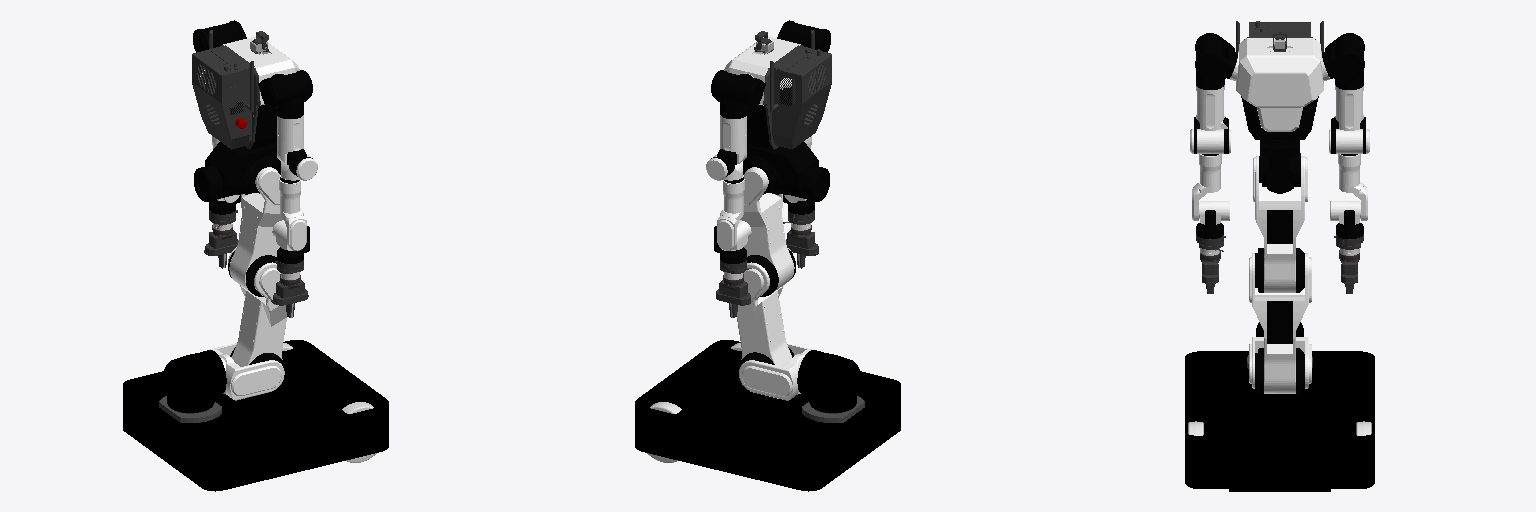
--- What the picture shows (computed from the rendered views, not written in the file) ---
The picture shows the robot from 3 angles, left to right: view 1: azimuth 30°, elevation 25°; view 2: azimuth 150°, elevation 25°; view 3: azimuth 270°, elevation 25°; orthographic projection.
Model RB_Y1M with 36 links and 35 joints (22 revolute, 4 continuous, 4 prismatic, 5 fixed), rooted at base, posed all joints at 0.
Links seen in each view (by area): view 1: base, link_torso_5, link_torso_2, link_torso_1, link_torso_4, link_torso_0, link_right_arm_2, link_right_arm_1, link_right_arm_3, link_right_arm_4, link_right_arm_5, link_right_arm_0 (+3 smaller); view 2: base, link_torso_5, link_torso_2, link_torso_1, link_torso_4, link_torso_0, link_left_arm_2, link_left_arm_1, link_left_arm_3, link_left_arm_4, link_left_arm_5, link_left_arm_0 (+3 smaller); view 3: base, link_torso_5, link_torso_1, link_torso_2, link_torso_4, link_right_arm_2, link_left_arm_2, link_right_arm_3, link_left_arm_3, link_right_arm_0, link_left_arm_0, link_right_arm_5 (+4 smaller).
Boxes of the visible links, x1,y1,x2,y2 form: base: (123, 340, 388, 491); link_torso_5: (192, 30, 299, 149); link_torso_2: (228, 167, 283, 296); link_torso_1: (228, 247, 286, 394); link_torso_4: (194, 142, 280, 201); link_torso_0: (210, 343, 284, 400); link_right_arm_2: (275, 115, 317, 180); link_right_arm_1: (271, 72, 307, 118); link_right_arm_3: (278, 155, 309, 211); link_right_arm_4: (280, 208, 306, 250); link_right_arm_5: (272, 220, 309, 263); link_right_arm_0: (258, 70, 312, 111); base: (635, 340, 900, 491); link_torso_5: (724, 30, 831, 149); link_torso_2: (740, 167, 795, 296); link_torso_1: (737, 248, 794, 368); link_torso_4: (743, 142, 829, 201); link_torso_0: (739, 344, 811, 400); link_left_arm_2: (706, 115, 748, 180); link_left_arm_1: (716, 72, 752, 118); link_left_arm_3: (714, 155, 745, 211); link_left_arm_4: (717, 208, 743, 250); link_left_arm_5: (714, 220, 751, 263); link_left_arm_0: (711, 70, 765, 111); base: (1185, 322, 1374, 491); link_torso_5: (1227, 21, 1332, 143); link_torso_1: (1249, 253, 1311, 393); link_torso_2: (1253, 156, 1307, 292); link_torso_4: (1260, 140, 1299, 193); link_right_arm_2: (1190, 85, 1230, 153); link_left_arm_2: (1329, 85, 1369, 153); link_right_arm_3: (1197, 129, 1227, 185); link_left_arm_3: (1332, 129, 1362, 185); link_right_arm_0: (1195, 33, 1234, 86); link_left_arm_0: (1325, 33, 1364, 86); link_right_arm_5: (1196, 201, 1229, 238).
Size in the robot's own frame: 0.695 by 0.6 by 1.47 metres.
Meshes: 29 distinct files referenced, 35 mesh visuals loaded (28 Collada DAE); not drawn: 1 (reference not matched to a file when rendering).

robot.urdf — RB_Y1M:
<?xml version="1.0"?>
<!-- 예시입니다. -->
<robot name="RB_Y1M">
    <mobile type="mecanum" xyz="0 0 0" rpy="0 0 0" joints="wheel_fr wheel_fl wheel_rr wheel_rl"
            params="1.0 1.0 0.1"/> <!-- wheel_base, wheel_radius -->

    <link name="base">
        <inertial>
            <mass value="60.08042639"/> <!-- TODO 수정 필요 -->
            <origin rpy="0 0 0" xyz="-0.06157942 -0.00142271 0.13513861"/>
            <inertia ixx="1.37742174" ixy="0.02521789" ixz="0.18565467" iyy="2.99386515" iyz="-0.00641869"
                     izz="3.76085052"/> <!-- TODO 수정 필요 -->
        </inertial>

        <visual>
            <geometry>
                <mesh filename="./meshes/base.dae"/>
            </geometry>
        </visual>
    </link>

    <!-- Mobile Base Wheels -->
    <!-- TODO 수정 필요 -->
    <link name="wheel_fr_link">
        <inertial>
            <mass value="1.37783736"/>
            <origin rpy="0 0 0" xyz="0.0 -0.00073938 0.0"/>
            <inertia ixx="0.00426657" ixy="0.0" ixz="0.0" iyy="0.00811815" iyz="0.0" izz="0.00426657"/>
        </inertial>

        <visual>
            <geometry>
                <mesh filename="./meshes/WHEEL.dae"/>
            </geometry>
        </visual>
    </link>

    <link name="wheel_fl_link">
        <inertial>
            <mass value="1.37783736"/>
            <origin rpy="0 0 0" xyz="0.0 0.00073938 0.0"/>
            <inertia ixx="0.00426657" ixy="0.0" ixz="0.0" iyy="0.00811815" iyz="0.0" izz="0.00426657"/>
        </inertial>

        <visual>
            <geometry>
                <mesh filename="./meshes/WHEEL.dae"/>
            </geometry>
        </visual>
    </link>

    <link name="wheel_rr_link">
        <inertial>
            <mass value="1.37783736"/>
            <origin rpy="0 0 0" xyz="0.0 0.00073938 0.0"/>
            <inertia ixx="0.00426657" ixy="0.0" ixz="0.0" iyy="0.00811815" iyz="0.0" izz="0.00426657"/>
        </inertial>

        <visual>
            <geometry>
                <mesh filename="./meshes/WHEEL.dae"/>
            </geometry>
        </visual>
    </link>

    <link name="wheel_rl_link">
        <inertial>
            <mass value="1.37783736"/>
            <origin rpy="0 0 0" xyz="0.0 0.00073938 0.0"/>
            <inertia ixx="0.00426657" ixy="0.0" ixz="0.0" iyy="0.00811815" iyz="0.0" izz="0.00426657"/>
        </inertial>

        <visual>
            <geometry>
                <mesh filename="./meshes/WHEEL.dae"/>
            </geometry>
        </visual>
    </link>
    <!-- -->

    <link name="link_torso_0">
        <inertial>
            <mass value="2.24282123"/>
            <origin rpy="0 0 0" xyz="-0.08848415 0.00021367 0.00000046"/>
            <inertia ixx="0.01413496" ixy="0.00092982" ixz="-0.00000010" iyy="0.01005357"
                     iyz="-0.00000008" izz="0.01892525"/>
        </inertial>

        <visual>
            <geometry>
                <mesh filename="./meshes/LINK_1.dae"/>
            </geometry>
        </visual>

        <collision>
            <origin xyz="-0.115 0 0" rpy="0 1.5708 0"/>
            <geometry>
                <capsule radius="0.105" length="0.230" coltype="1"/>
                <!-- <capsule sp="0.0 0.0 0.0" ep="-0.230 0.0 0.0" radius="0.105" length="1"/> -->
            </geometry>
        </collision>
    </link>

    <link name="link_torso_1">
        <inertial>
            <mass value="9.72162676"/>
            <origin rpy="0 0 0" xyz="0.00728955 -0.01728522 0.06911380"/>
            <inertia ixx="0.14862640" ixy="-0.00142621" ixz="-0.00951385" iyy="0.13854733"
                     iyz="-0.00975351" izz="0.02912982"/>
        </inertial>

        <visual>
            <geometry>
                <mesh filename="./meshes/LINK_2.dae"/>
            </geometry>
        </visual>

        <collision>
            <origin xyz="0.0100 0 0.2400" rpy="0 0 0"/>
            <geometry>
                <capsule radius="0.115" length="0.220" coltype="2"/>
                <!-- <capsule sp="0.01 0.0 0.130" ep="0.01 0.0 0.350" radius="0.115"/> -->
            </geometry>
        </collision>
    </link>

    <link name="link_torso_2">
        <inertial>
            <mass value="9.21691850"/>
            <origin rpy="0 0 0" xyz="0.00653835 -0.01769536 0.05636582"/>
            <inertia ixx="0.12162270" ixy="-0.00127910" ixz="-0.00831678" iyy="0.11589190"
                     iyz="-0.00873271" izz="0.03094484"/>
        </inertial>

        <visual>
            <geometry>
                <mesh filename="./meshes/LINK_3.dae"/>
            </geometry>
        </visual>

        <collision>
            <origin xyz="0.0250 0 0.2300" rpy="0 0 0"/>
            <geometry>
                <capsule radius="0.095" length="0.1600" coltype="4"/>
                <!-- <capsule sp="0.025 0.0 0.15" ep="0.025 0.0 0.310" radius="0.095"/> -->
            </geometry>
        </collision>
    </link>

    <link name="link_torso_3">
        <inertial>
            <mass value="4.18679196"/>
            <origin rpy="0 0 0" xyz="-0.00574156 -0.01725975 0.00005610"/>
            <inertia ixx="0.00849870" ixy="0.00040861" ixz="-0.00000263" iyy="0.00929513"
                     iyz="-0.00001243" izz="0.00955442"/>
        </inertial>

        <visual>
            <geometry>
                <mesh filename="./meshes/LINK_4.dae"/>
            </geometry>
        </visual>
    </link>

    <link name="link_torso_4">
        <inertial>
            <mass value="4.45566276"/>
            <origin rpy="0 0 0" xyz="-0.09097095 0.00005085 0.02601950"/>
            <inertia ixx="0.01545991" ixy="0.00001883" ixz="-0.00780349" iyy="0.02550888" iyz="0.00000715"
                     izz="0.01952563"/>
        </inertial>

        <visual>
            <geometry>
                <mesh filename="./meshes/LINK_5.dae"/>
            </geometry>
        </visual>


        <collision>
            <origin xyz="-0.070000 0 0.038500" rpy="0 1.5708 0"/>
            <geometry>
                <capsule radius="0.105" length="0.2" coltype="8"/>
                <!-- <capsule sp="0.03 0.0 0.0385" ep="-0.170 0.0 0.0385" radius="0.105"/> -->
            </geometry>
        </collision>
    </link>

    <link name="link_torso_5">
        <inertial>
            <mass value="12.59012341"/>
            <origin rpy="0 0 0" xyz="-0.01338376 0.00025621 -0.03272487"/>
            <inertia ixx="0.21375525" ixy="0.00051520" ixz="0.00880124" iyy="0.16562090" iyz="-0.00023995"
                     izz="0.13308879"/>
        </inertial>

        <visual>
            <geometry>
                <mesh filename="./meshes/LINK_6.dae"/>
            </geometry>
        </visual>

        <collision>
            <origin xyz="0 0 0.0075" rpy="0 0 0"/>
            <geometry>
                <capsule radius="0.155" length="0.1350" coltype="16"/>
                <!-- <capsule sp="0.0 0.0 -0.06" ep="0.0 0.0 0.075" radius="0.155"/> -->
            </geometry>
        </collision>
    </link>

    <link name="link_right_arm_0">
        <inertial>
            <mass value="1.26164242"/>
            <origin rpy="0 0 0" xyz="-0.00316662 0.03437181 -0.00000030"/>
            <inertia ixx="0.00230621" ixy="0.00039024" ixz="-0.00000256" iyy="0.00426418" iyz="0.00000118"
                     izz="0.00432156"/>
        </inertial>

        <visual>
            <geometry>
                <mesh filename="./meshes/LINK_7.dae"/>
            </geometry>
        </visual>

        <collision>
            <origin xyz="-0.015 0.018 -0.008" rpy="0 1.5708 0"/>
            <geometry>
                <capsule radius="0.075" length="0.0700"/>
            </geometry>
        </collision>
    </link>

    <link name="link_right_arm_1">
        <inertial>
            <mass value="2.27287031"/>
            <origin rpy="0 0 0" xyz="-0.00307855 -0.00124741 -0.01294324"/>
            <inertia ixx="0.00388490" ixy="-0.00001477" ixz="0.00011465" iyy="0.00447034"
                     iyz="-0.00010023" izz="0.00288341"/>
        </inertial>

        <visual>
            <geometry>
                <mesh filename="./meshes/LINK_8.dae"/>
            </geometry>
        </visual>

        <collision>
            <origin xyz="0 0 -0.1000" rpy="0 0 0"/>
            <geometry>
                <capsule radius="0.05" length="0.2" coltype="32"/>
                <!-- <capsule sp="0.0 0.0 0.0" ep="0.0 0.0 -0.200" radius="0.050"/> -->
            </geometry>
        </collision>
    </link>

    <link name="link_right_arm_2">
        <inertial>
            <mass value="2.46909439"/>
            <origin rpy="0 0 0" xyz="0.00115434 -0.00196635 -0.16192524"/>
            <inertia ixx="0.00980269" ixy="0.00005871" ixz="0.00051888" iyy="0.00924560" iyz="-0.00045932"
                     izz="0.00329867"/>
        </inertial>

        <visual>
            <geometry>
                <mesh filename="./meshes/LINK_9.dae"/>
            </geometry>
        </visual>

        <collision>
            <origin xyz="0.0260 0 -0.2760" rpy="1.5708 0 0"/>
            <geometry>
                <capsule radius="0.05" length="0.080000" coltype="64"/>
                <!-- <capsule sp="0.026 -0.040 -0.276" ep="0.026 0.040 -0.276" radius="0.05"/> -->
            </geometry>
        </collision>
    </link>

    <link name="link_right_arm_3">
        <inertial>
            <mass value="2.26099493"/>
            <origin rpy="0 0 0" xyz="-0.01603135 -0.00692891 -0.04549811"/>
            <inertia ixx="0.00822606" ixy="0.00027620" ixz="-0.00156570" iyy="0.00844870" iyz="0.00076157"
                     izz="0.00236614"/>
        </inertial>

        <visual>
            <geometry>
                <mesh filename="./meshes/LINK_10.dae"/>
            </geometry>
        </visual>

        <collision>
            <origin xyz="-0.0310 0 -0.1075" rpy="0 0 0"/>
            <geometry>
                <capsule radius="0.04" length="0.1150" coltype="128" colaffinity="30"/>
                <!-- <capsule sp="-0.031 0.0 -0.05" ep="-0.031 0.0 -0.165" radius="0.04"/> -->
            </geometry>
        </collision>
    </link>

    <link name="link_right_arm_4">
        <inertial>
            <mass value="0.42508710"/>
            <origin rpy="0 0 0" xyz="-0.00000011 -0.02696036 0.06182110"/>
            <inertia ixx="0.00082466" ixy="0.0" ixz="0.0" iyy="0.00075398" iyz="-0.00025338"
                     izz="0.00039794"/>
        </inertial>

        <visual>
            <geometry>
                <mesh filename="./meshes/LINK_11.dae"/>
            </geometry>
        </visual>

        <collision>
            <origin xyz="0 -0.038 0.0175" rpy="0 0 0"/>
            <geometry>
                <capsule radius="0.035" length="0.095" coltype="256" colaffinity="30"/>
            </geometry>
        </collision>
    </link>

    <link name="link_right_arm_5">
        <inertial>
            <mass value="1.59194395"/>
            <origin rpy="0 0 0" xyz="0.00318034 -0.00532264 -0.02809655"/>
            <inertia ixx="0.00256054" ixy="-0.00002344" ixz="-0.00001563" iyy="0.00257233"
                     iyz="0.00021608" izz="0.00156092"/>
        </inertial>

        <visual>
            <geometry>
                <mesh filename="./meshes/LINK_12.dae"/>
            </geometry>
        </visual>

        <collision>
            <origin xyz="0 0 -0.1" rpy="0 0 0"/>
            <geometry>
                <capsule radius="0.075" length="0.25" coltype="512" colaffinity="31"/>
                <!-- <capsule sp="0.0 0.0 0.002" ep="0.0 0.0 -0.050" radius="0.075"/> -->
            </geometry>
        </collision>
    </link>

    <link name="link_right_arm_6">
        <inertial>
            <mass value="0.21137279"/>
            <origin rpy="0 0 0" xyz="0.00066810 -0.00031708 -0.09636043"/>
            <inertia ixx="0.00013511" ixy="-0.00000242" ixz="-0.00000102" iyy="0.00014453"
                     iyz="0.00000094" izz="0.00025431"/>
        </inertial>

        <visual>
            <geometry>
                <mesh filename="./meshes/LINK_13.dae"/>
            </geometry>
        </visual>
    </link>

    <link name="link_left_arm_0">
        <inertial>
            <mass value="1.26164242"/>
            <origin rpy="0 0 0" xyz="-0.00316662 -0.03437151 0.00000242"/>
            <inertia ixx="0.00230624" ixy="-0.00039022" ixz="0.00000269" iyy="0.00426418" iyz="0.00000108"
                     izz="0.00432159"/>
        </inertial>

        <visual>
            <geometry>
                <mesh filename="./meshes/LINK_14.dae"/>
            </geometry>
        </visual>

        <collision>
            <origin xyz="-0.015 -0.018 -0.008" rpy="0 1.5708 0"/>
            <geometry>
                <capsule radius="0.075" length="0.0700"/>
            </geometry>
        </collision>
    </link>

    <link name="link_left_arm_1">
        <inertial>
            <mass value="1.88138658"/>
            <origin rpy="0 0 0" xyz="-0.00183470 0.00040596 -0.01008733"/>
            <inertia ixx="0.00295838" ixy="-0.00001176" ixz="0.00006949" iyy="0.00355208" iyz="0.00004467"
                     izz="0.00230558"/>
        </inertial>

        <visual>
            <geometry>
                <mesh filename="./meshes/LINK_15.dae"/>
            </geometry>
        </visual>

        <collision>
            <origin xyz="0 0 -0.1000" rpy="0 0 0"/>
            <geometry>
                <capsule radius="0.050" length="0.2000" colaffinity="768"/>
            </geometry>
        </collision>
    </link>

    <link name="link_left_arm_2">
        <inertial>
            <mass value="2.35634437"/>
            <origin rpy="0 0 0" xyz="0.00066086 -0.00038583 -0.15742972"/>
            <inertia ixx="0.00842712" ixy="0.00000247" ixz="0.00036948" iyy="0.00802311" iyz="-0.00006550"
                     izz="0.00295678"/>
        </inertial>

        <visual>
            <geometry>
                <mesh filename="./meshes/LINK_16.dae"/>
            </geometry>
        </visual>

        <collision>
            <origin xyz="0.0260 0 -0.2760" rpy="1.5708 0 0"/>
            <geometry>
                <capsule radius="0.05" length="0.080000" colaffinity="768"/>
            </geometry>
        </collision>
    </link>

    <link name="link_left_arm_3">
        <inertial>
            <mass value="2.00905891"/>
            <origin rpy="0 0 0" xyz="-0.01565298 0.00793126 -0.04997943"/>
            <inertia ixx="0.00756474" ixy="-0.00026771" ixz="-0.00155419" iyy="0.00772758"
                     iyz="-0.00084364" izz="0.00199754"/>
        </inertial>

        <visual>
            <geometry>
                <mesh filename="./meshes/LINK_17.dae"/>
            </geometry>
        </visual>

        <collision>
            <origin xyz="-0.0310 0 -0.1075" rpy="0 0 0"/>
            <geometry>
                <capsule radius="0.04" length="0.1150" colaffinity="926"/>
            </geometry>
        </collision>
    </link>

    <link name="link_left_arm_4">
        <inertial>
            <mass value="0.42508710"/>
            <origin rpy="0 0 0" xyz="0.00000011 0.02696036 0.06182110"/>
            <inertia ixx="0.00082466" ixy="0.0" ixz="0.0" iyy="0.00075398" iyz="0.00025338"
                     izz="0.00039794"/>
        </inertial>

        <visual>
            <geometry>
                <mesh filename="./meshes/LINK_18.dae"/>
            </geometry>
        </visual>

        <collision>
            <origin xyz="0 0.038000 0.017500" rpy="0 0 0"/>
            <geometry>
                <capsule radius="0.035" length="0.095000" colaffinity="1022"/>
            </geometry>
        </collision>
    </link>

    <link name="link_left_arm_5">
        <inertial>
            <mass value="1.44264795"/>
            <origin rpy="0 0 0" xyz="0.00340082 0.00576824 -0.02507309"/>
            <inertia ixx="0.00233577" ixy="0.00003048" ixz="-0.00001191" iyy="0.00232580"
                     iyz="-0.00019491" izz="0.00138375"/>
        </inertial>

        <visual>
            <geometry>
                <mesh filename="./meshes/LINK_19.dae"/>
            </geometry>
        </visual>

        <collision>
            <origin xyz="0 0 -0.1" rpy="0 0 0"/>
            <geometry>
                <capsule radius="0.075" length="0.25" colaffinity="1023"/>
            </geometry>
        </collision>
    </link>

    <link name="link_left_arm_6">
        <inertial>
            <mass value="0.21137279"/>
            <origin rpy="0 0 0" xyz="-0.00066810 0.00031708 -0.09636043"/>
            <inertia ixx="0.00013511" ixy="-0.00000242" ixz="0.00000102" iyy="0.00014453"
                     iyz="-0.00000094" izz="0.00025431"/>
        </inertial>

        <visual>
            <geometry>
                <mesh filename="./meshes/LINK_20.dae"/>
            </geometry>
        </visual>
    </link>

    <link name="FT_sensor_R">
        <inertial>
            <mass value="0.49078507"/>
            <origin rpy="0 0 0" xyz="0.00010423 0.00108019 -0.01880676"/>
            <inertia ixx="0.00028587" ixy="-0.00000146" ixz="-0.00000026" iyy="0.00030459"
                     iyz="-0.00000772" izz="0.00036377"/>
        </inertial>

        <visual>
            <geometry>
                <mesh filename="./meshes/FT_SENSOR_R.dae"/>
            </geometry>
        </visual>
    </link>

    <link name="FT_sensor_L">
        <inertial>
            <mass value="0.49078507"/>
            <origin rpy="0 0 0" xyz="-0.00010423 -0.00108019 -0.01880676"/>
            <inertia ixx="0.00028587" ixy="-0.00000146" ixz="0.00000026" iyy="0.00030459" iyz="0.00000772"
                     izz="0.00036377"/>
        </inertial>

        <visual>
            <geometry>
                <mesh filename="./meshes/FT_SENSOR_L.dae"/>
            </geometry>
        </visual>
    </link>

    <link name="ee_right">
        <inertial>
            <mass value="0.46704998"/>
            <origin rpy="0 0 0" xyz="0.00212703 0.00000615 -0.04287176"/>
            <inertia ixx="0.00032067" ixy="0.00002383" ixz="-0.00000785" iyy="0.00059559"
                     iyz="-0.00000007" izz="0.00052732"/>
        </inertial>

        <visual>
            <geometry>
                <mesh filename="./meshes/EE_BODY.dae"/>
            </geometry>
        </visual>
    </link>

    <link name="ee_finger_r1">
        <inertial>
            <mass value="0.03326999"/>
            <origin rpy="0 0 0" xyz="0.00278346 -0.00000329 -0.02570112"/>
            <inertia ixx="0.00001231" ixy="0.0" ixz="-0.00000042" iyy="0.00001066" iyz="0.0"
                     izz="0.00000224"/>
        </inertial>

        <visual>
            <geometry>
                <mesh filename="./meshes/EE_FINGER.dae"/>
            </geometry>
        </visual>
    </link>

    <link name="ee_finger_r2">
        <inertial>
            <mass value="0.03326999"/>
            <origin rpy="0 0 0" xyz="0.00278346 -0.00000329 -0.02570112"/>
            <inertia ixx="0.00001231" ixy="0.0" ixz="-0.00000042" iyy="0.00001066" iyz="0.0"
                     izz="0.00000224"/>
        </inertial>

        <visual>
            <geometry>
                <mesh filename="./meshes/EE_FINGER.dae"/>
            </geometry>
        </visual>
    </link>

    <link name="ee_left">
        <inertial>
            <mass value="0.46704998"/>
            <origin rpy="0 0 0" xyz="0.00212703 0.00000615 -0.04287176"/>
            <inertia ixx="0.00032067" ixy="0.00002383" ixz="-0.00000785" iyy="0.00059559"
                     iyz="-0.00000007" izz="0.00052732"/>
        </inertial>

        <visual>
            <geometry>
                <mesh filename="./meshes/EE_BODY.dae"/>
            </geometry>
        </visual>
    </link>

    <link name="ee_finger_l1">
        <inertial>
            <mass value="0.03326999"/>
            <origin rpy="0 0 0" xyz="0.00278346 -0.00000329 -0.02570112"/>
            <inertia ixx="0.00001231" ixy="0.0" ixz="-0.00000042" iyy="0.00001066" iyz="0.0"
                     izz="0.00000224"/>
        </inertial>

        <visual>
            <geometry>
                <mesh filename="./meshes/EE_FINGER.dae"/>
            </geometry>
        </visual>
    </link>

    <link name="ee_finger_l2">
        <inertial>
            <mass value="0.03326999"/>
            <origin rpy="0 0 0" xyz="0.00278346 -0.00000329 -0.02570112"/>
            <inertia ixx="0.00001231" ixy="0.0" ixz="-0.00000042" iyy="0.00001066" iyz="0.0"
                     izz="0.00000224"/>
        </inertial>

        <visual>
            <geometry>
                <mesh filename="./meshes/EE_FINGER.dae"/>
            </geometry>
        </visual>
    </link>

    <link name="link_head_0">
        <inertial>
            <mass value="0.07582110"/>
            <origin rpy="0 0 0" xyz="-0.00800549 0.0 -0.01100308"/>
            <inertia ixx="0.00003307" ixy="0.0" ixz="-0.00000290" iyy="0.00002209" iyz="0.0"
                     izz="0.00003796"/>
        </inertial>

        <visual>
            <geometry>
                <mesh filename="./meshes/PAN_TILT_1.dae"/>
            </geometry>
        </visual>
    </link>

    <link name="link_head_1">
        <inertial>
            <mass value="0.07450580"/>
            <origin rpy="0 0 0" xyz="-0.01150679 -0.00114270 -0.00031579"/>
            <inertia ixx="0.00001850" ixy="-0.00000035" ixz="0.00000203" iyy="0.00002451"
                     iyz="-0.00000010" izz="0.00002062"/>
        </inertial>

        <visual>
            <geometry>
                <mesh filename="./meshes/PAN_TILT_2.dae"/>
            </geometry>
        </visual>
    </link>

    <link name="link_head_2">
        <inertial>
            <mass value="0.03585374"/>
            <origin rpy="0 0 0" xyz="-0.00081966 0.00099024 0.02283704"/>
            <inertia ixx="0.00002046" ixy="0.00000001" ixz="-0.00000027" iyy="0.00001044" iyz="0.00000076"
                     izz="0.00001291"/>
        </inertial>

        <visual>
            <geometry>
                <mesh filename="./meshes/PAN_TILT_3.dae"/>
            </geometry>
        </visual>
    </link>


    <!-- Joints -->
    <joint name="wheel_fr" type="continuous">
        <parent link="base"/>
        <child link="wheel_fr_link"/>
        <origin rpy="0.0 0.0 0.0" xyz="0.228 -0.265 0.1"/> <!-- TODO 수정 필요 -->
        <axis xyz="0 -1 0"/>
        <limit velocity="15.707963268" acceleration="3.141592"/>
    </joint>

    <joint name="wheel_fl" type="continuous">
        <parent link="base"/>
        <child link="wheel_fl_link"/>
        <origin rpy="0.0 0.0 0.0" xyz="0.228 0.265 0.1"/> <!-- TODO 수정 필요 -->
        <axis xyz="0 -1 0"/>
        <limit velocity="15.707963268" acceleration="3.141592"/>
    </joint>
    <joint name="wheel_rr" type="continuous">
        <parent link="base"/>
        <child link="wheel_rr_link"/>
        <origin rpy="0.0 0.0 0.0" xyz="0.228 -0.265 0.1"/> <!-- TODO 수정 필요 -->
        <axis xyz="0 -1 0"/>
        <limit velocity="15.707963268" acceleration="3.141592"/>
    </joint>

    <joint name="wheel_rl" type="continuous">
        <parent link="base"/>
        <child link="wheel_rl_link"/>
        <origin rpy="0.0 0.0 0.0" xyz="0.228 0.265 0.1"/> <!-- TODO 수정 필요 -->
        <axis xyz="0 -1 0"/>
        <limit velocity="15.707963268" acceleration="3.141592"/>
    </joint>

    <joint name="torso_0" type="revolute">
        <parent link="base"/>
        <child link="link_torso_0"/>
        <origin rpy="0.0 0.0 0.0" xyz="0.0 0.0 0.2805"/>
        <axis xyz="1 0 0"/>
        <!-- Nm, rad/s^2, rad/s, (min) rad, (max) rad -->
        <!-- 270Nm, 5rad/s^2, 120deg/s, -15deg, 15deg -->
        <limit effort="270.0"
               acceleration="5.0"
               velocity="2.09439510"
               lower="-0.261799388"
               upper="0.261799388"
        />
    </joint>

    <joint name="torso_1" type="revolute">
        <parent link="link_torso_0"/>
        <child link="link_torso_1"/>
        <origin rpy="0.0 0.0 0.0" xyz="0.0 0.0 0.0"/>
        <axis xyz="0 1 0"/>
        <!-- Nm, rad/s^2, rad/s, (min) rad, (max) rad -->
        <!-- 270Nm, 5rad/s^2, 120deg/s, -30deg, 90deg -->
        <limit effort="270.0"
               acceleration="5.0"
               velocity="2.09439510"
               lower="-0.523598776"
               upper="1.570796327"
        />
    </joint>

    <joint name="torso_2" type="revolute">
        <parent link="link_torso_1"/>
        <child link="link_torso_2"/>
        <origin rpy="0.0 0.0 0.0" xyz="0.0 0.0 0.350"/>
        <axis xyz="0 1 0"/>
        <!-- Nm, rad/s^2, rad/s, (min) rad, (max) rad -->
        <!-- 270Nm, 5rad/s^2, 120deg/s, -150deg, 90deg -->
        <limit effort="270.0"
               acceleration="5.0"
               velocity="2.09439510"
               lower="-2.617993878"
               upper="1.570796327"
        />
    </joint>

    <joint name="torso_3" type="revolute">
        <parent link="link_torso_2"/>
        <child link="link_torso_3"/>
        <origin rpy="0.0 0.0 0.0" xyz="0.0 0.0 0.350"/>
        <axis xyz="0 1 0"/>
        <!-- Nm, rad/s^2, rad/s, (min) rad, (max) rad -->
        <!-- 120Nm, 5rad/s^2, 180deg/s, -45deg, 90deg -->
        <limit effort="120.0"
               acceleration="5.0"
               velocity="3.141592654"
               lower="-0.785398163"
               upper="1.570796327"
        />
    </joint>

    <joint name="torso_4" type="revolute">
        <parent link="link_torso_3"/>
        <child link="link_torso_4"/>
        <origin rpy="0.0 0.0 0.0" xyz="0.0 0.0 0.0"/>
        <axis xyz="1 0 0"/>
        <!-- Nm, rad/s^2, rad/s, (min) rad, (max) rad -->
        <!-- 120Nm, 5rad/s^2, 180deg/s, -30deg, 30deg -->
        <limit effort="120.0"
               acceleration="5.0"
               velocity="3.141592654"
               lower="-0.523598776"
               upper="0.523598776"
        />
    </joint>

    <joint name="torso_5" type="revolute">
        <parent link="link_torso_4"/>
        <child link="link_torso_5"/>
        <origin rpy="0.0 0.0 0.0" xyz="0.0 0.0 0.309426548461"/>
        <axis xyz="0 0 1"/>
        <!-- Nm, rad/s^2, rad/s, (min) rad, (max) rad -->
        <!-- 120Nm, 5rad/s^2, 180deg/s, -135deg, 135deg -->
        <limit effort="120.0"
               acceleration="5.0"
               velocity="3.141592654"
               lower="-2.35619449"
               upper="2.35619449"
        />
    </joint>

    <joint name="right_arm_0" type="revolute">
        <parent link="link_torso_5"/>
        <child link="link_right_arm_0"/>
        <origin rpy="-0.349065850  0.0 0.0" xyz="0.0 -0.220 0.080073451539 "/>
        <axis xyz="0 1 0"/>
        <!-- Nm, rad/s^2, rad/s, (min) rad, (max) rad -->
        <!-- 70Nm, 10rad/s^2, 180deg/s, -180deg, 180deg -->
        <limit effort="70.0"
               acceleration="10.0"
               velocity="3.141592654"
               lower="-3.141592654"
               upper="3.141592654"
        />
    </joint>

    <joint name="right_arm_1" type="revolute">
        <parent link="link_right_arm_0"/>
        <child link="link_right_arm_1"/>
        <origin rpy="0.349065850 0.0 0.0" xyz="0.0 0.0 0.0"/>
        <axis xyz="1 0 0"/>
        <!-- Nm, rad/s^2, rad/s, (min) rad, (max) rad -->
        <!-- 70Nm, 10rad/s^2, 180deg/s, -180deg, 1deg -->
        <limit effort="70.0"
               acceleration="10.0"
               velocity="3.141592654"
               lower="-3.141592654"
               upper="0.017453293"
        />
    </joint>

    <joint name="right_arm_2" type="revolute">
        <parent link="link_right_arm_1"/>
        <child link="link_right_arm_2"/>
        <origin rpy="0.0 0.0 0.0" xyz="0.0 0.0 0.0"/>
        <axis xyz="0 0 1"/>
        <!-- Nm, rad/s^2, rad/s, (min) rad, (max) rad -->
        <!-- 70Nm, 10rad/s^2, 180deg/s, -180deg, 180deg -->
        <limit effort="70.0"
               acceleration="10.0"
               velocity="3.141592654"
               lower="-3.141592654"
               upper="3.141592654"
        />
    </joint>

    <joint name="right_arm_3" type="revolute">
        <parent link="link_right_arm_2"/>
        <child link="link_right_arm_3"/>
        <origin rpy="0.0 0.0 0.0" xyz="0.031 0.0 -0.276"/>
        <axis xyz="0 1 0"/>
        <!-- Nm, rad/s^2, rad/s, (min) rad, (max) rad -->
        <!-- 40Nm, 10rad/s^2, 180deg/s, -150deg, 1deg -->
        <limit effort="40.0"
               acceleration="10.0"
               velocity="3.141592654"
               lower="-2.617993878"
               upper="0.017453293"
        />
    </joint>

    <joint name="right_arm_4" type="revolute">
        <parent link="link_right_arm_3"/>
        <child link="link_right_arm_4"/>
        <origin rpy="0.0 0.0 0.0" xyz="-0.031 0.0 -0.256"/>
        <axis xyz="0 0 1"/>
        <!-- Nm, rad/s^2, rad/s, (min) rad, (max) rad -->
        <!-- 10Nm, 10rad/s^2, 360deg/s, -180deg, 180deg -->
        <limit effort="10.0"
               acceleration="10.0"
               velocity="6.283185308"
               lower="-3.141592654"
               upper="3.141592654"
        />
    </joint>

    <joint name="right_arm_5" type="revolute">
        <parent link="link_right_arm_4"/>
        <child link="link_right_arm_5"/>
        <origin rpy="0.0 0.0 0.0" xyz="0.0 0.0 0.0"/>
        <axis xyz="0 1 0"/>
        <!-- Nm, rad/s^2, rad/s, (min) rad, (max) rad -->
        <!-- 10Nm, 10rad/s^2, 360deg/s, -90deg, 110deg -->
        <limit effort="10.0"
               acceleration="10.0"
               velocity="6.283185308"
               lower="-1.570796327"
               upper="1.919862177"
        />
    </joint>

    <joint name="right_arm_6" type="revolute">
        <parent link="link_right_arm_5"/>
        <child link="link_right_arm_6"/>
        <origin rpy="0.0 0.0 0.0" xyz="0.0 0.0 0.0"/>
        <axis xyz="0 0 1"/>
        <!-- Nm, rad/s^2, rad/s, (min) rad, (max) rad -->
        <!-- 8Nm, 10rad/s^2, 120deg/s, -160deg, 160deg -->
        <limit effort="8.0"
               acceleration="10.0"
               velocity="2.094395102"
               lower="-2.792526803"
               upper="2.792526803"
        />
    </joint>

    <joint name="left_arm_0" type="revolute">
        <parent link="link_torso_5"/>
        <child link="link_left_arm_0"/>
        <origin rpy="0.349065850  0.0 0.0" xyz="0.0 0.220 0.080073452 "/>
        <axis xyz="0 1 0"/>
        <!-- Nm, rad/s^2, rad/s, (min) rad, (max) rad -->
        <!-- 70Nm, 10rad/s^2, 180deg/s, -180deg, 180deg -->
        <limit effort="70.0"
               acceleration="10.0"
               velocity="3.141592654"
               lower="-3.141592654"
               upper="3.141592654"
        />
    </joint>

    <joint name="left_arm_1" type="revolute">
        <parent link="link_left_arm_0"/>
        <child link="link_left_arm_1"/>
        <origin rpy="-0.349065850 0.0 0.0" xyz="0.0 0.0 0.0"/>
        <axis xyz="1 0 0"/>
        <!-- Nm, rad/s^2, rad/s, (min) rad, (max) rad -->
        <!-- 70Nm, 10rad/s^2, 180deg/s, -1deg, 180deg -->
        <limit effort="70.0"
               acceleration="10.0"
               velocity="3.141592654"
               lower="-0.017453293"
               upper="3.141592654"
        />
    </joint>

    <joint name="left_arm_2" type="revolute">
        <parent link="link_left_arm_1"/>
        <child link="link_left_arm_2"/>
        <origin rpy="0.0 0.0 0.0" xyz="0.0 0.0 0.0"/>
        <axis xyz="0 0 1"/>
        <!-- Nm, rad/s^2, rad/s, (min) rad, (max) rad -->
        <!-- 70Nm, 10rad/s^2, 180deg/s, -180deg, 180deg -->
        <limit effort="70.0"
               acceleration="10.0"
               velocity="3.141592654"
               lower="-3.141592654"
               upper="3.141592654"
        />
    </joint>

    <joint name="left_arm_3" type="revolute">
        <parent link="link_left_arm_2"/>
        <child link="link_left_arm_3"/>
        <origin rpy="0.0 0.0 0.0" xyz="0.031 0.0 -0.276"/>
        <axis xyz="0 1 0"/>
        <!-- Nm, rad/s^2, rad/s, (min) rad, (max) rad -->
        <!-- 40Nm, 10rad/s^2, 180deg/s, -150deg, 1deg -->
        <limit effort="40.0"
               acceleration="10.0"
               velocity="3.141592654"
               lower="-2.617993878"
               upper="0.017453293"
        />
    </joint>

    <joint name="left_arm_4" type="revolute">
        <parent link="link_left_arm_3"/>
        <child link="link_left_arm_4"/>
        <origin rpy="0.0 0.0 0.0" xyz="-0.031 0.0 -0.256"/>
        <axis xyz="0 0 1"/>
        <!-- Nm, rad/s^2, rad/s, (min) rad, (max) rad -->
        <!-- 10Nm, 10rad/s^2, 360deg/s, -180deg, 180deg -->
        <limit effort="10.0"
               acceleration="10.0"
               velocity="6.283185308"
               lower="-3.141592654"
               upper="3.141592654"
        />
    </joint>

    <joint name="left_arm_5" type="revolute">
        <parent link="link_left_arm_4"/>
        <child link="link_left_arm_5"/>
        <origin rpy="0.0 0.0 0.0" xyz="0.0 0.0 0.0"/>
        <axis xyz="0 1 0"/>
        <!-- Nm, rad/s^2, rad/s, (min) rad, (max) rad -->
        <!-- 10Nm, 10rad/s^2, 360deg/s, -90deg, 110deg -->
        <limit effort="10.0"
               acceleration="10.0"
               velocity="6.283185308"
               lower="-1.570796327"
               upper="1.919862177"
        />
    </joint>

    <joint name="left_arm_6" type="revolute">
        <parent link="link_left_arm_5"/>
        <child link="link_left_arm_6"/>
        <origin rpy="0.0 0.0 0.0" xyz="0.0 0.0 0.0"/>
        <axis xyz="0 0 1"/>
        <!-- Nm, rad/s^2, rad/s, (min) rad, (max) rad -->
        <!-- 8Nm, 10rad/s^2, 120deg/s, -160deg, 160deg -->
        <limit effort="8.0"
               acceleration="10.0"
               velocity="2.094395102"
               lower="-2.792526803"
               upper="2.792526803"
        />
    </joint>

    <joint name="tool_right" type="fixed">
        <parent link="link_right_arm_6"/>
        <child link="FT_sensor_R"/>
        <origin rpy="0.0 0.0 0.0" xyz="0.0 0.0 -0.1087"/>
        <axis xyz="0 0 1"/>
    </joint>

    <joint name="FT_Sensor_END_right" type="fixed">
        <parent link="FT_sensor_R"/>
        <child link="ee_right"/>
        <origin rpy="0.0 0.0 0.0" xyz="0.0 0.0 -0.0461"/>
        <axis xyz="0 0 1"/>
    </joint>

    <joint name="gripper_finger_r1" type="prismatic" in_model_type="fixed">
        <parent link="ee_right"/>
        <child link="ee_finger_r1"/>
        <origin rpy="0.0 0.0 0.0" xyz="0.003 0.0 -0.073"/>
        <axis xyz="-1 0 0"/>
        <limit effort="1000" velocity="0.05" lower="-0.05" upper="0"/>
    </joint>

    <joint name="gripper_finger_r2" type="prismatic" in_model_type="fixed">
        <parent link="ee_right"/>
        <child link="ee_finger_r2"/>
        <origin rpy="0.0 0.0 3.1415926535" xyz="-0.003 0.0 -0.073"/>
        <axis xyz="1 0 0"/>
        <limit effort="1000" velocity="0.05" lower="0" upper="0.05"/>
    </joint>

    <joint name="tool_left" type="fixed">
        <parent link="link_left_arm_6"/>
        <child link="FT_sensor_L"/>
        <origin rpy="0.0 0.0 0" xyz="0.0 0.0 -0.1087"/>
        <axis xyz="0 0 1"/>
    </joint>

    <joint name="FT_Sensor_END_left" type="fixed">
        <parent link="FT_sensor_L"/>
        <child link="ee_left"/>
        <origin rpy="0.0 0.0 0.0" xyz="0.0 0.0 -0.0461"/>
        <axis xyz="0 0 1"/>
    </joint>

    <joint name="gripper_finger_l1" type="prismatic" in_model_type="fixed">
        <parent link="ee_left"/>
        <child link="ee_finger_l1"/>
        <origin rpy="0.0 0.0 0.0" xyz="0.003 0.0 -0.073"/>
        <axis xyz="-1 0 0"/>
        <limit effort="1000" velocity="0.05" lower="-0.05" upper="0"/>
    </joint>

    <joint name="gripper_finger_l2" type="prismatic" in_model_type="fixed">
        <parent link="ee_left"/>
        <child link="ee_finger_l2"/>
        <origin rpy="0.0 0.0 3.1415926535" xyz="-0.003 0.0 -0.073"/>
        <axis xyz="1 0 0"/>
        <limit effort="1000" velocity="0.05" lower="0" upper="0.05"/>
    </joint>

    <joint name="head_base" type="fixed">
        <parent link="link_torso_5"/>
        <child link="link_head_0"/>
        <origin rpy="0.0 0.0 0.0" xyz="0.022 0.0 0.120073451525"/>
        <axis xyz="0 0 1"/>
    </joint>

    <joint name="head_0" type="revolute">
        <parent link="link_head_0"/>
        <child link="link_head_1"/>
        <origin rpy="0.0 0.0 0.0" xyz="0.0 0.0 0.02"/>
        <axis xyz="0 0 1"/>
        <limit effort="1000" velocity="3.14" lower="-0.523" upper="0.523"/>
    </joint>

    <joint name="head_1" type="revolute">
        <parent link="link_head_1"/>
        <child link="link_head_2"/>
        <origin rpy="0.0 0.0 0.0" xyz="0.0 0.0 0.0"/>
        <axis xyz="0 1 0"/>
        <limit effort="1000" velocity="3.14" lower="-0.35" upper="1.57"/>
    </joint>

    <!-- <joint name="head_mount" type="fixed">
      <parent link="link_head_2"/>
      <child link="Arbitrary device"/>
      <origin rpy="0.0 0.0 0.0" xyz="0.022 0.0 0.04"/>
      <axis xyz="0 0 1"/>
    </joint> -->

</robot>
